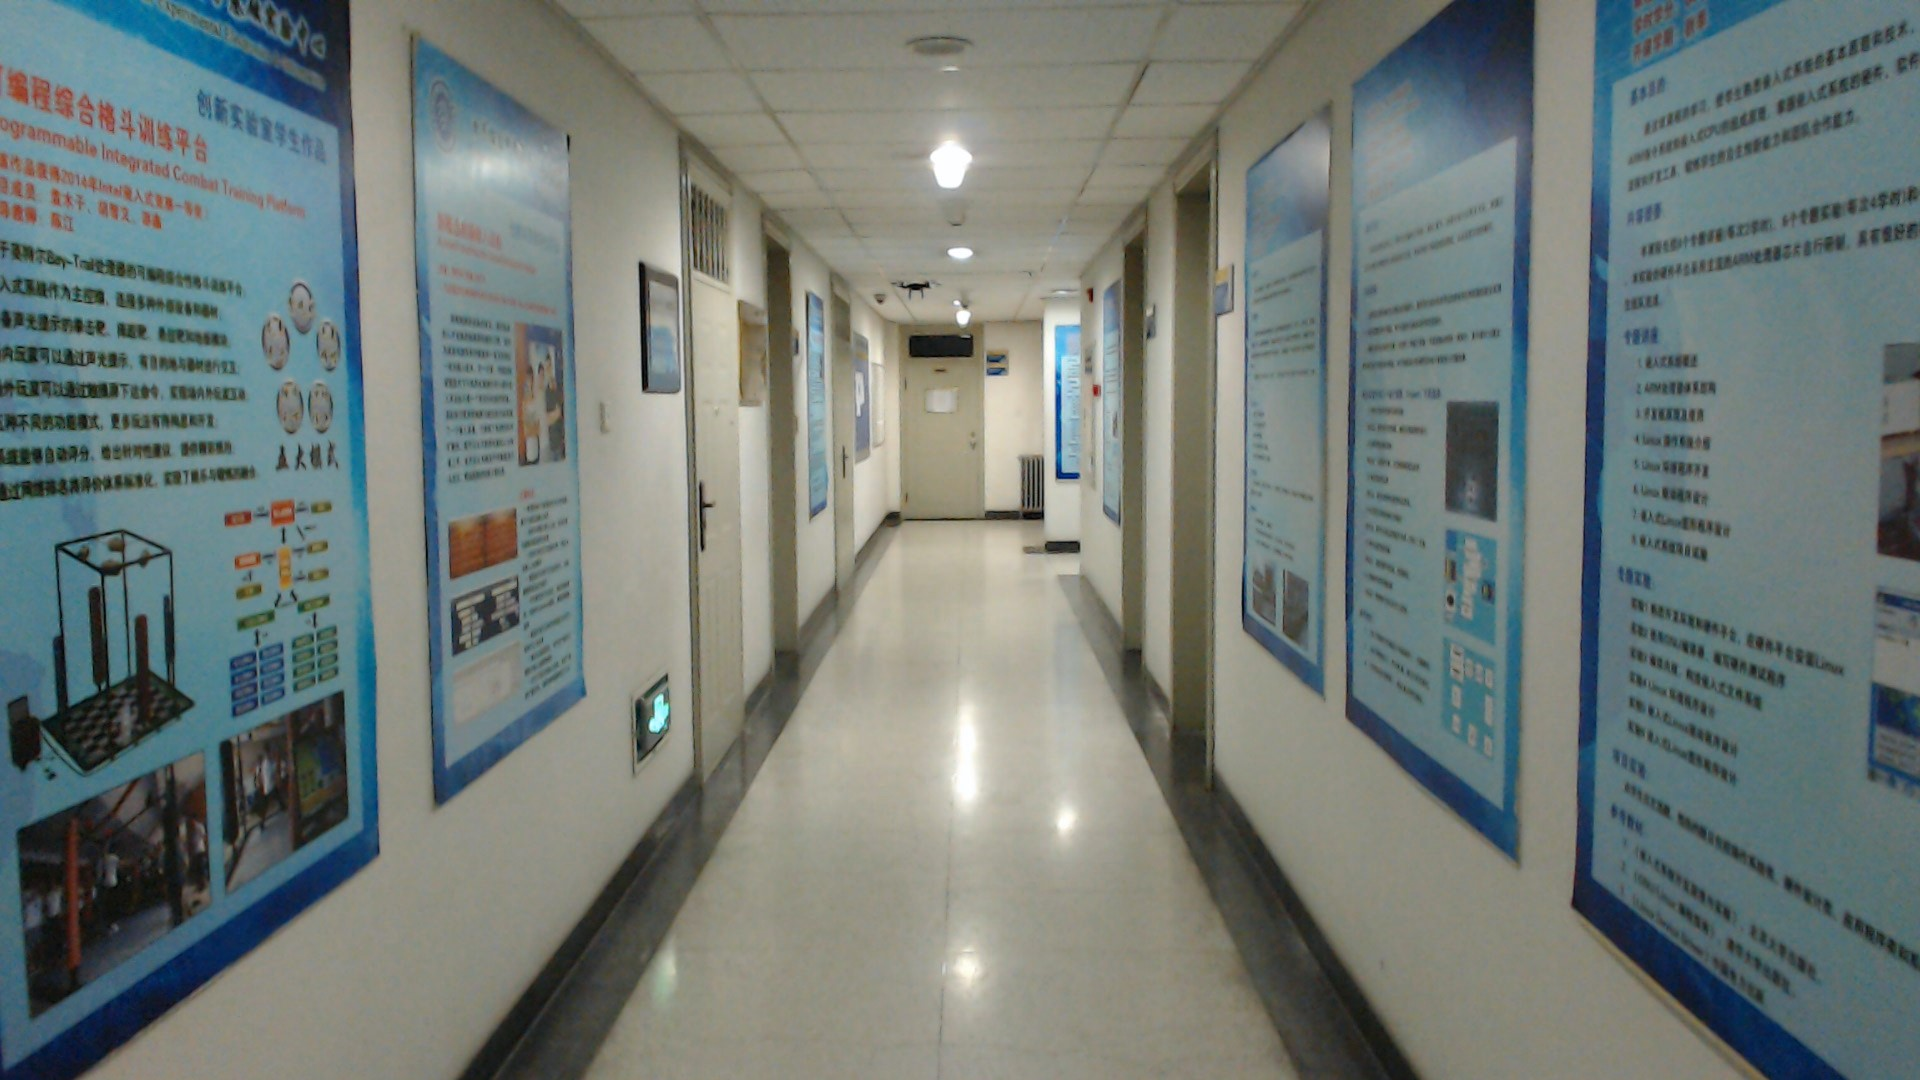drone: (886, 274, 948, 306)
